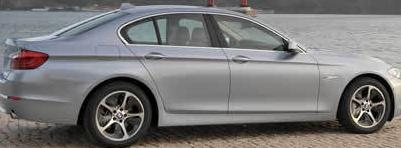back_view: (0, 36, 56, 127)
backlight: (6, 46, 52, 74)
side_glass: (117, 11, 301, 57)
